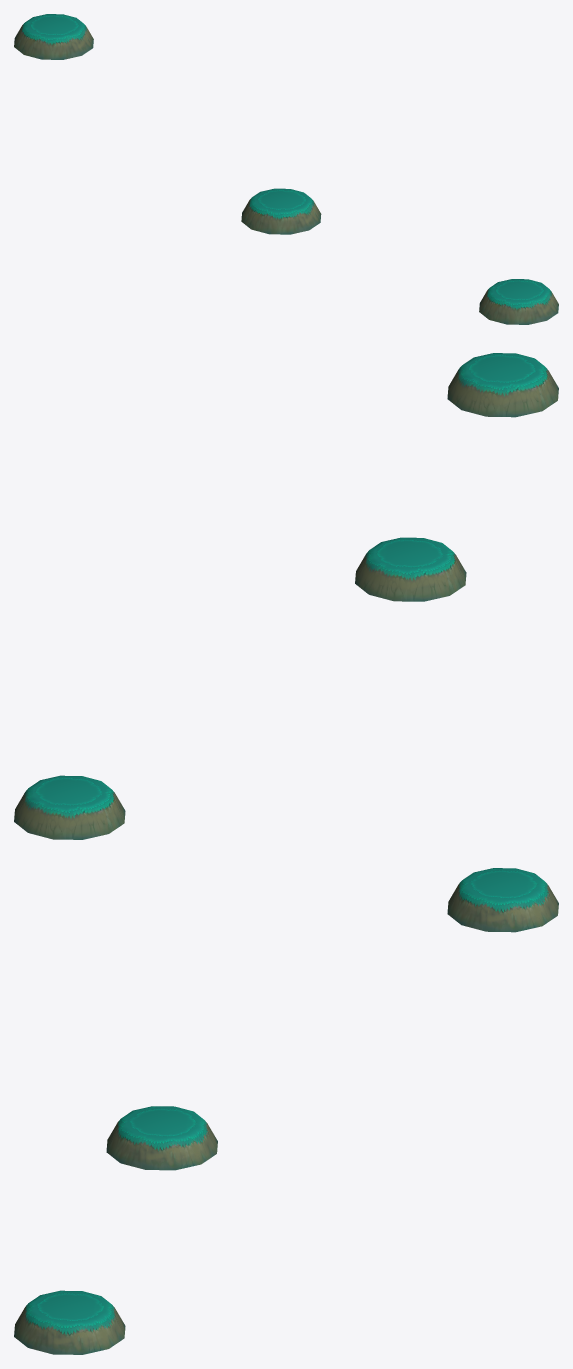
The model's file is stoneD.fbx.
3 views of the same model, one above another, from view 1: azimuth 30°, elevation 25°; view 2: azimuth 150°, elevation 25°; view 3: azimuth 330°, elevation 25° (orthographic). The views are drawn at different scales.
Parts seen in each view (by area): view 1: stoneD; view 2: stoneD; view 3: stoneD.
Boxes of the visible parts, x1,y1,x2,y2 form: stoneD: (14,14,558,324); stoneD: (14,353,558,839); stoneD: (14,868,558,1354).
Bounding box in the file's own units: 683 × 73.95 × 3266.
